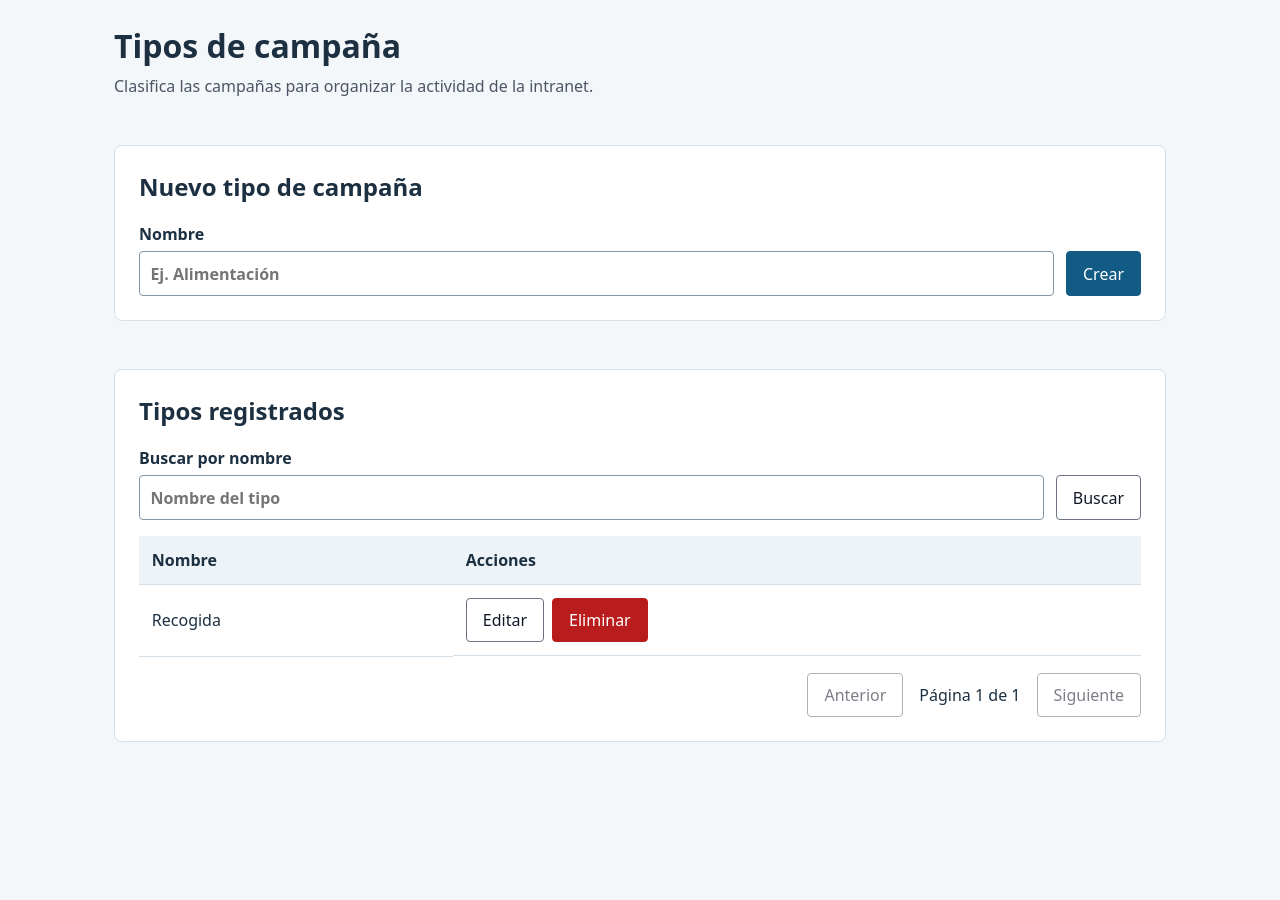
Test case: página de tipos de campaña › crea un tipo de campaña y refresca el listado
This screenshot has width=1280, height=900.
Type "Recogida" into the field labelled "Nombre" at (596, 274), box x1=139 y1=251 x2=1054 y2=296
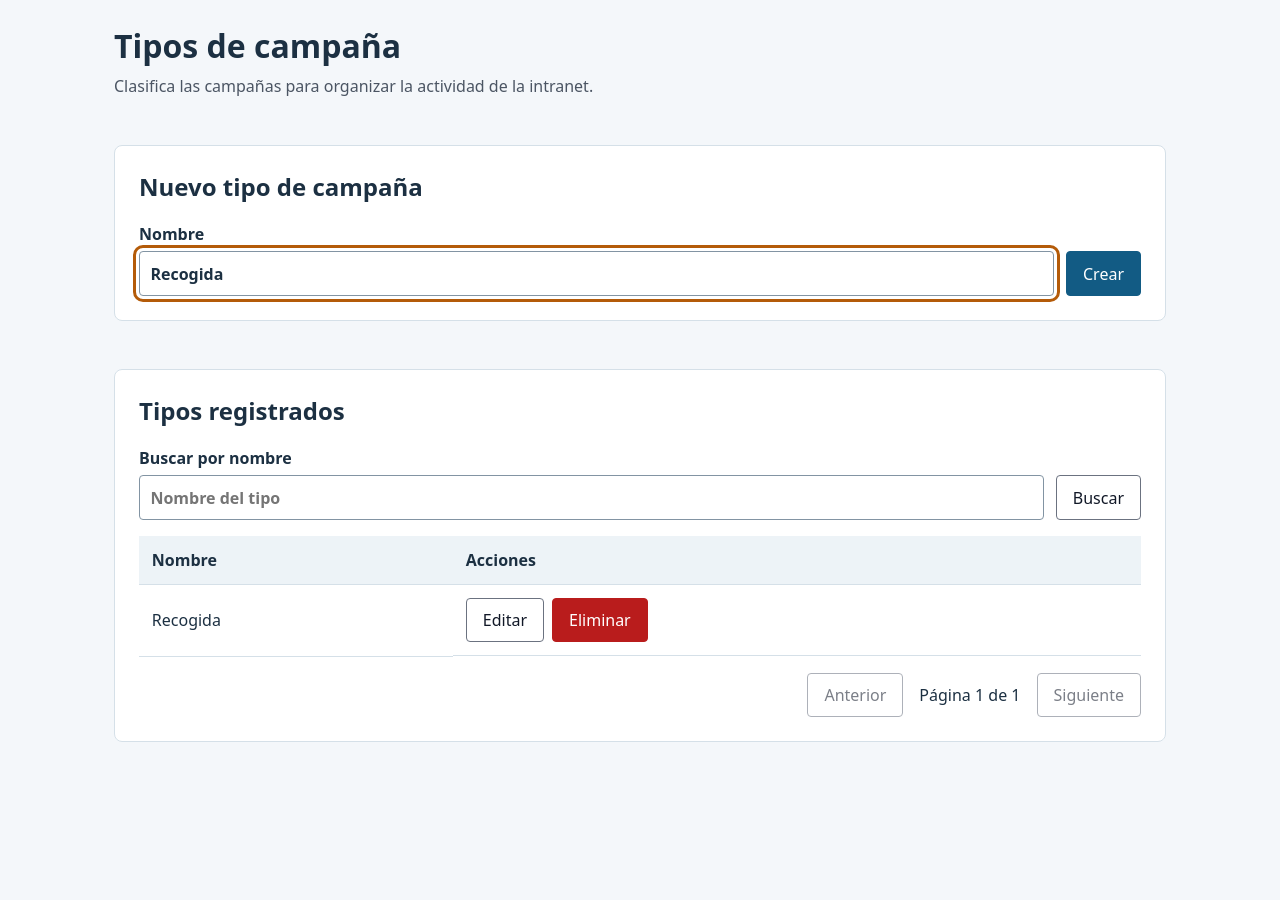
Click the button "Crear" at (1104, 274), box x1=1066 y1=251 x2=1141 y2=296
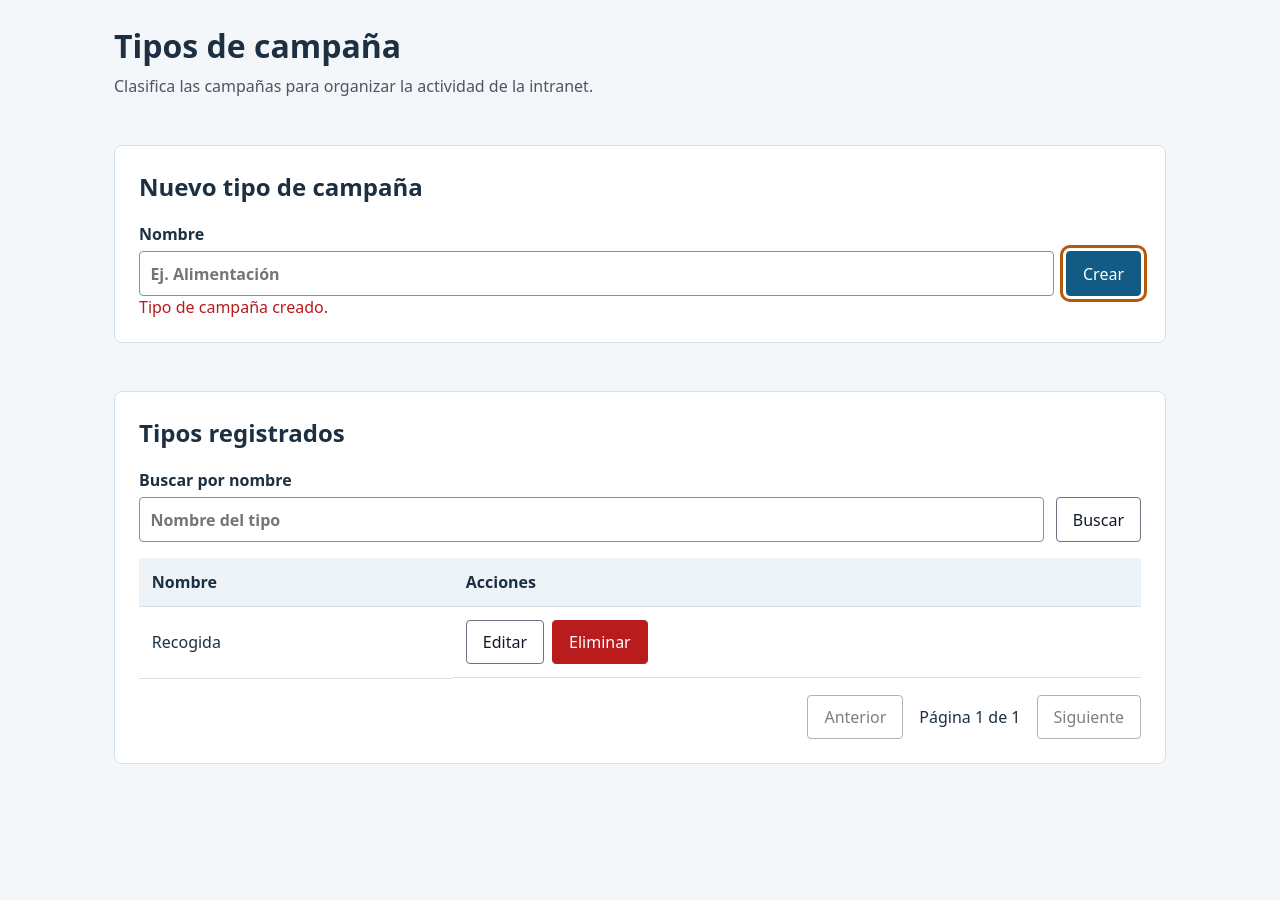
Expected: the text "Recogida" is shown, x1=139 y1=606 x2=453 y2=678
Expected: the text "Tipo de campaña creado." is shown, x1=139 y1=296 x2=328 y2=318
